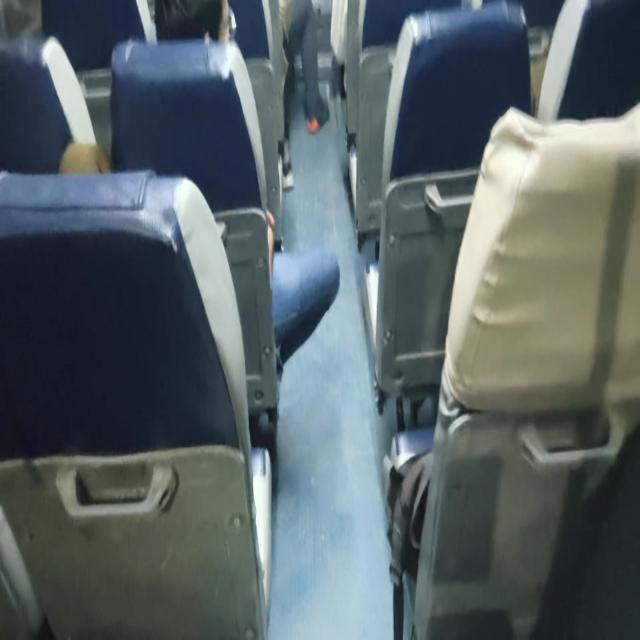person: (154, 1, 340, 378), (266, 208, 340, 380), (278, 0, 330, 136), (154, 0, 233, 44)
